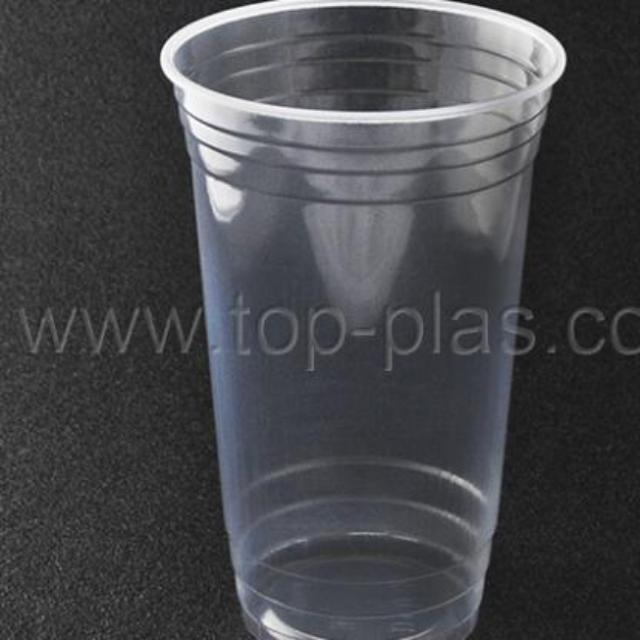plastic_box: (161, 0, 567, 638)
